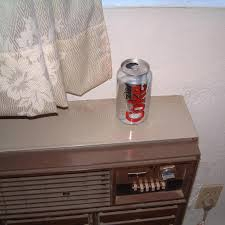can: (114, 55, 152, 127)
